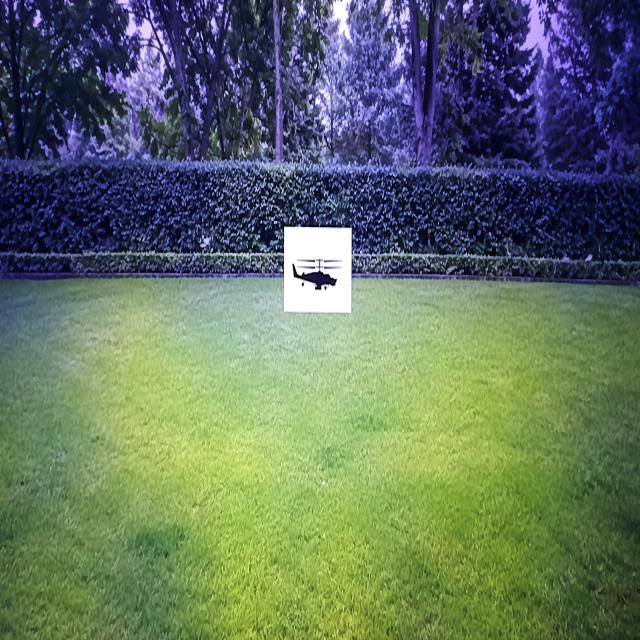Ka-52 Enemy: (292, 264, 337, 289), (297, 260, 319, 261)
